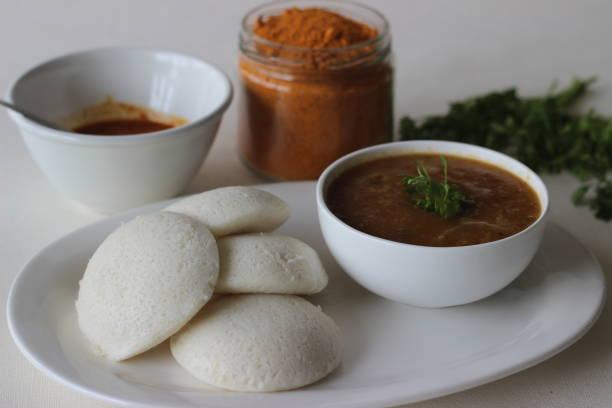idli: (75, 188, 344, 388)
sambhar: (351, 144, 538, 243)
